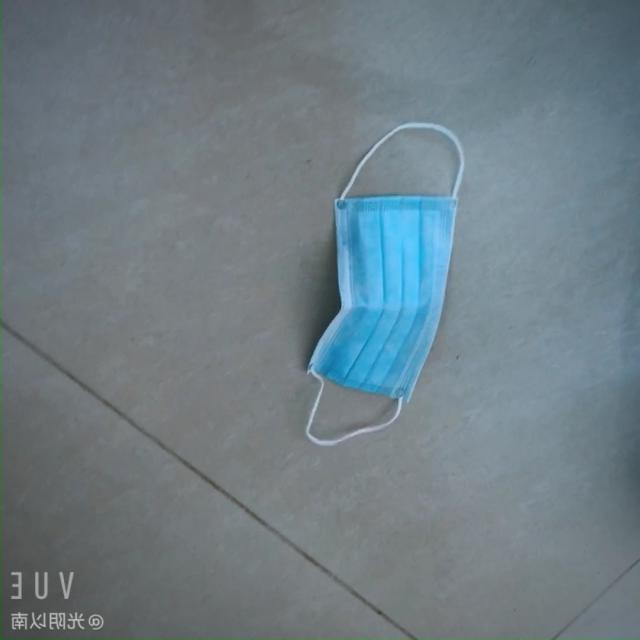face mask: (290, 171, 456, 447)
